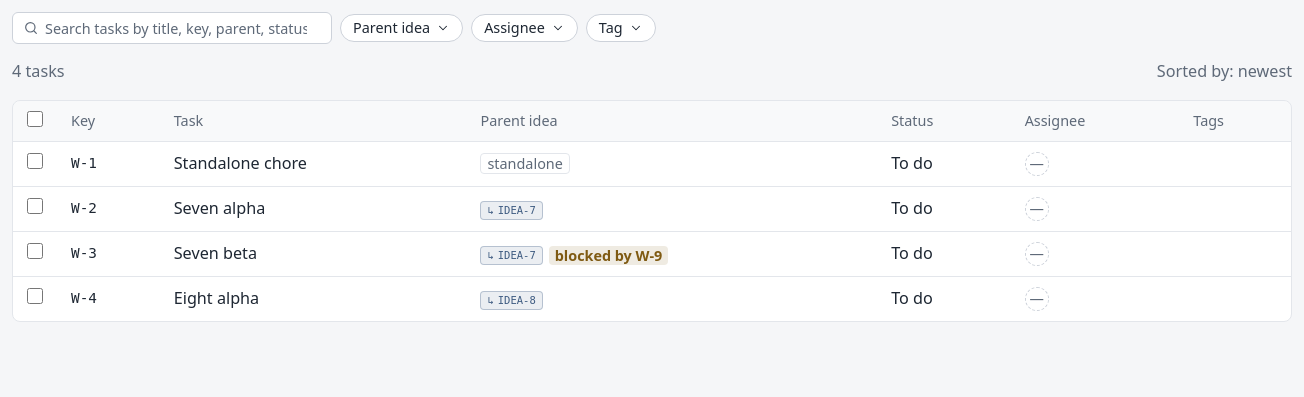
Test: Backlog selection bar adding to a sprint › sends the ticked ids and the sprint, then clears the selection and says so
The image size is (1304, 397).
What coordinates should you click on to do the following:
click the checkbox named "Select W-1"
I would click on:
 (35, 161)
Its box is [27, 153, 43, 169].
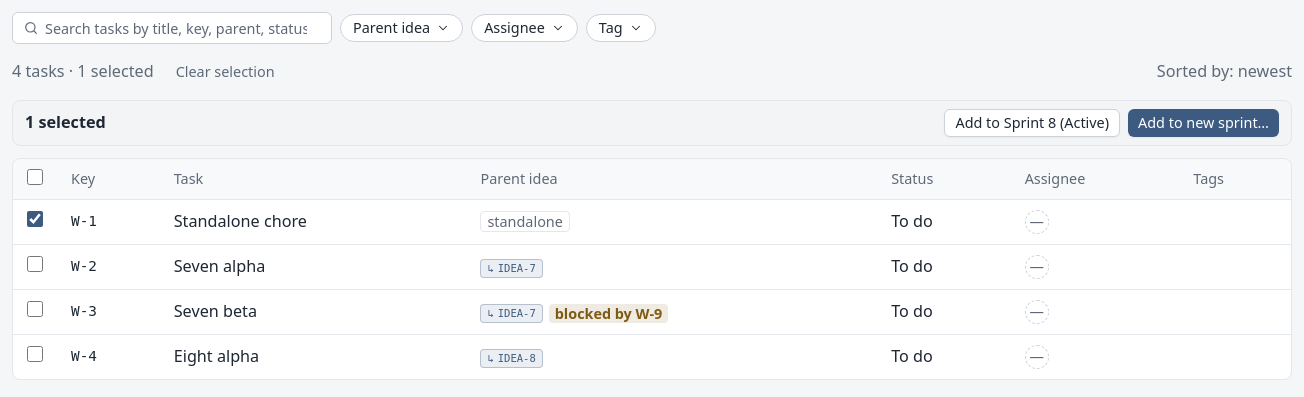
What coordinates should you click on to do the following:
click the checkbox named "Select W-3"
I would click on:
 (35, 309)
Its box is [27, 301, 43, 317].
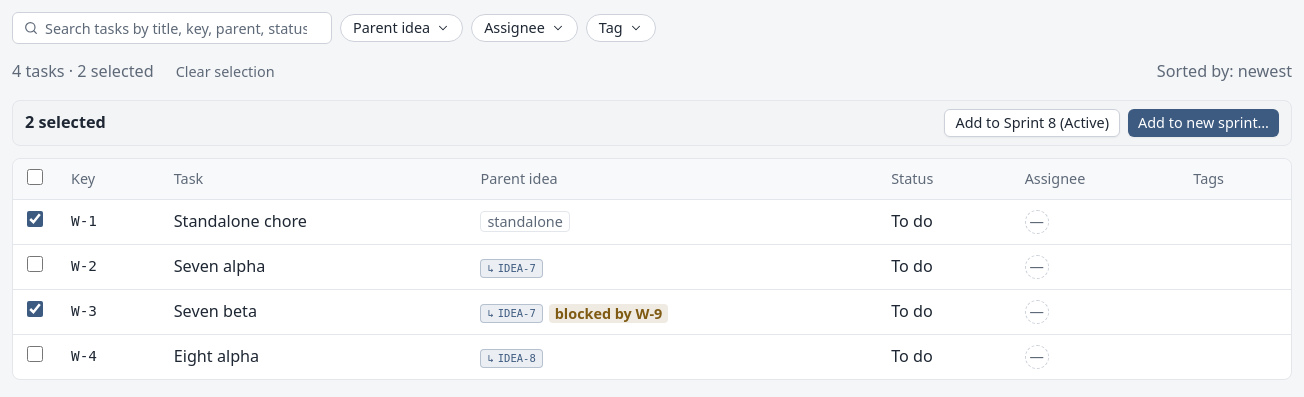
What coordinates should you click on to do the following:
click the button "Add to Sprint 8 (Active)"
I would click on:
 (1032, 123)
Its box is [944, 109, 1120, 137].
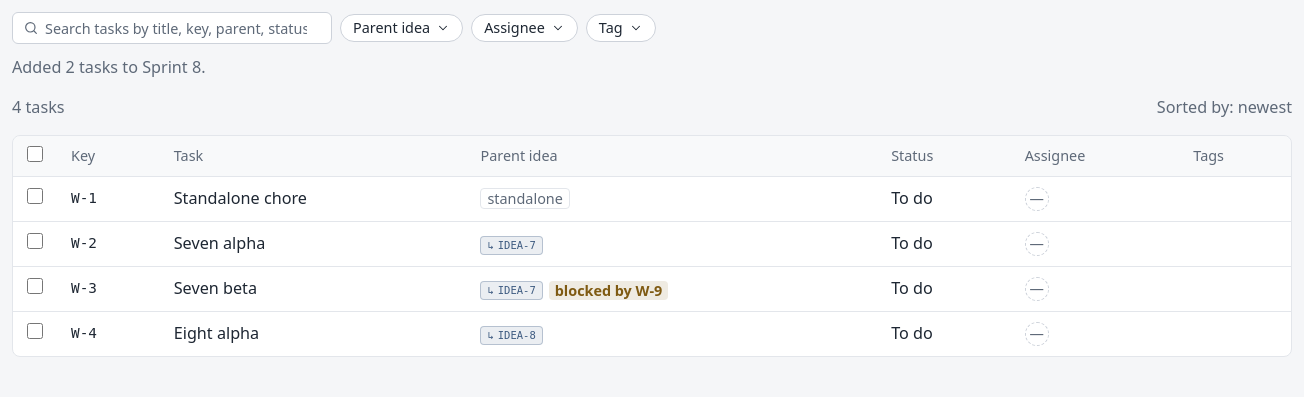
Expected: the text "Added 2 tasks to Sprint 8." is shown, [12, 56, 206, 78]
Expected: the button "Clear selection" is gone
